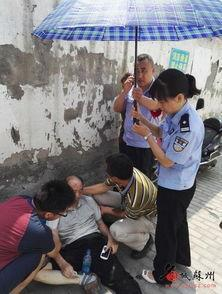Fall-Detected: (42, 170, 153, 294)
